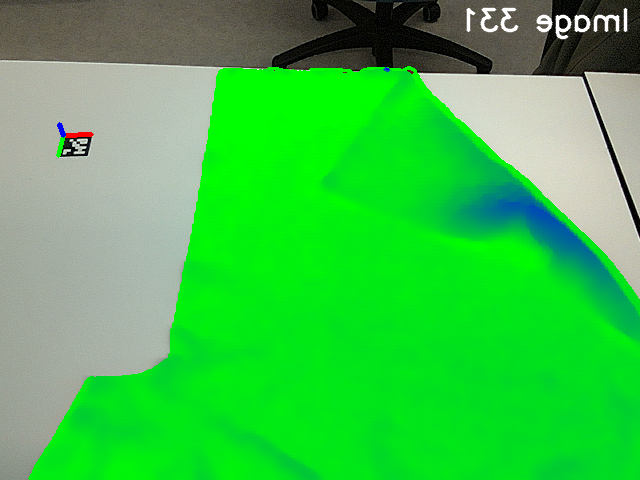V: (313, 152, 364, 201)
